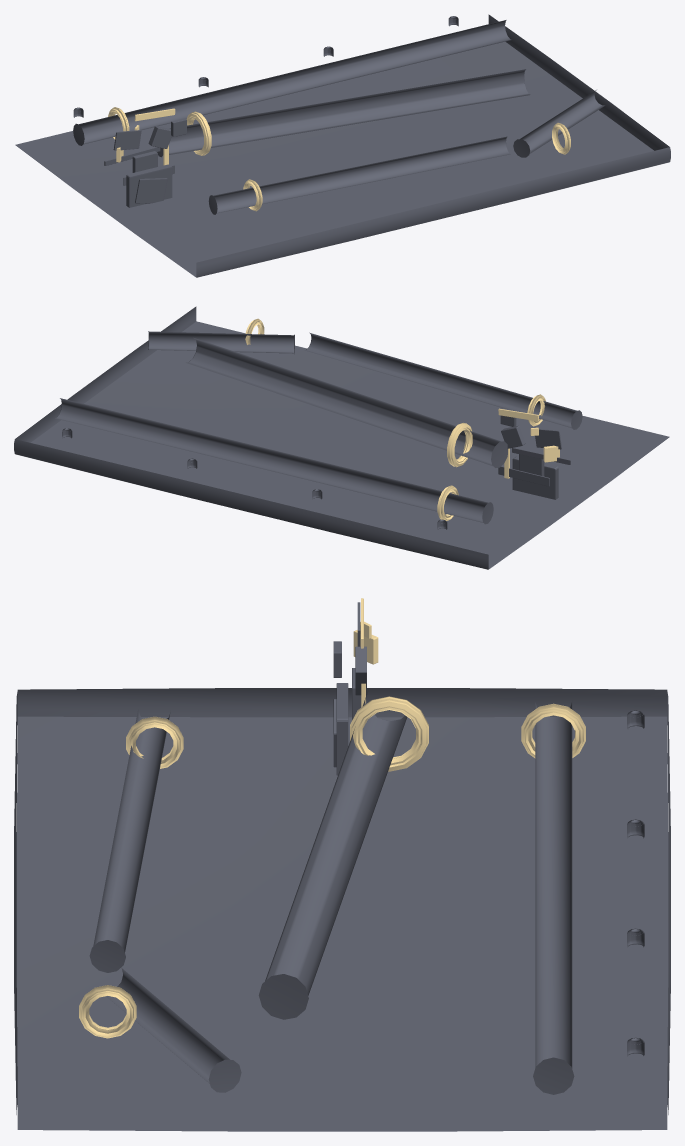
File: greeble_pipes.glb
3 views of the same model, one above another, from view 1: azimuth 30°, elevation 25°; view 2: azimuth 150°, elevation 25°; view 3: azimuth 270°, elevation 25° (orthographic). The views are drawn at different scales.
Visible parts, largest first — view 1: Pipe_Base, greeble_pipes_Material_Mechanical_Merged, greeble_pipes_Material_Accent_Merged, DET_mount_flange, DET_dock_scuff, DET_micro_scratch_plate, DET_flange_joint, DET_pipe_elbow; view 2: Pipe_Base, greeble_pipes_Material_Mechanical_Merged, greeble_pipes_Material_Accent_Merged, DET_mount_flange, DET_flange_joint, DET_rivet_row, DET_micro_scratch_plate, DET_pipe_elbow; view 3: Pipe_Base, greeble_pipes_Material_Mechanical_Merged, greeble_pipes_Material_Accent_Merged, DET_mount_flange.
Boxes of the visible parts, box(x1,y1,x2,y2) form: Pipe_Base: box(15, 14, 670, 277); greeble_pipes_Material_Mechanical_Merged: box(73, 16, 605, 214); greeble_pipes_Material_Accent_Merged: box(108, 107, 570, 211); DET_mount_flange: box(126, 164, 172, 207); DET_dock_scuff: box(135, 178, 167, 203); DET_micro_scratch_plate: box(113, 130, 141, 150); DET_flange_joint: box(132, 151, 157, 172); DET_pipe_elbow: box(148, 126, 171, 148); Pipe_Base: box(14, 306, 669, 569); greeble_pipes_Material_Mechanical_Merged: box(55, 331, 582, 529); greeble_pipes_Material_Accent_Merged: box(245, 318, 545, 520); DET_mount_flange: box(512, 456, 558, 499); DET_flange_joint: box(519, 449, 544, 476); DET_rivet_row: box(498, 466, 549, 486); DET_micro_scratch_plate: box(535, 429, 561, 449); DET_pipe_elbow: box(501, 425, 525, 448); Pipe_Base: box(14, 688, 670, 1131); greeble_pipes_Material_Mechanical_Merged: box(89, 692, 644, 1094); greeble_pipes_Material_Accent_Merged: box(79, 696, 585, 1038); DET_mount_flange: box(336, 683, 348, 775).
Bounding box in the file's own units: 4.2 × 0.8282 × 2.8.
